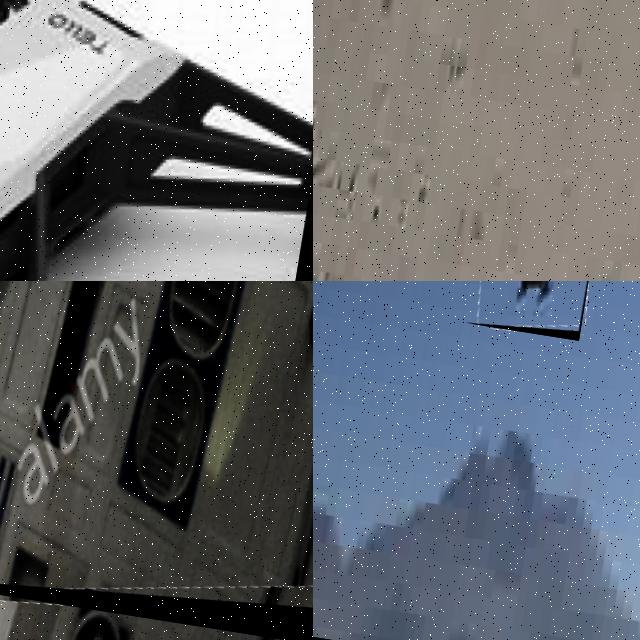drone: (0, 281, 313, 640), (0, 0, 313, 281), (466, 281, 611, 341)
